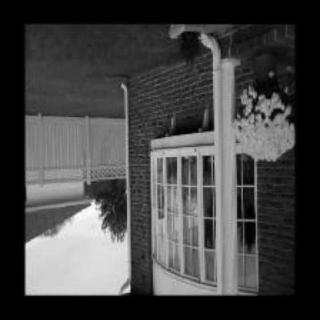other: (230, 50, 298, 168)
